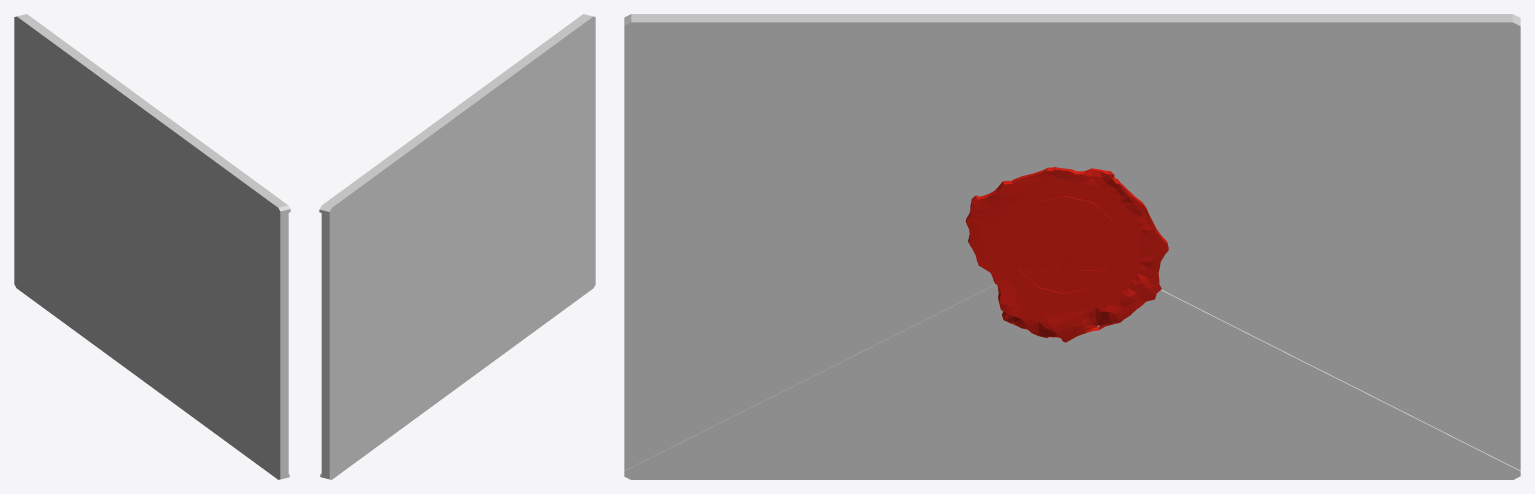
Rendered from busta.fbx.
3 renders of one model, left to right at view 1: azimuth 30°, elevation 25°; view 2: azimuth 150°, elevation 25°; view 3: azimuth 270°, elevation 25°, orthographic. The views are drawn at different scales.
Parts seen in each view (by area): view 1: Plane; view 2: Plane; view 3: Plane, Circle.
Part boxes in pixels (x1,y1,x2,y2): Plane: (14, 14, 290, 479); Plane: (319, 14, 595, 479); Plane: (624, 14, 1520, 479); Circle: (965, 167, 1168, 342).
Size of the model in its own units: 10.09 by 202 by 357.
